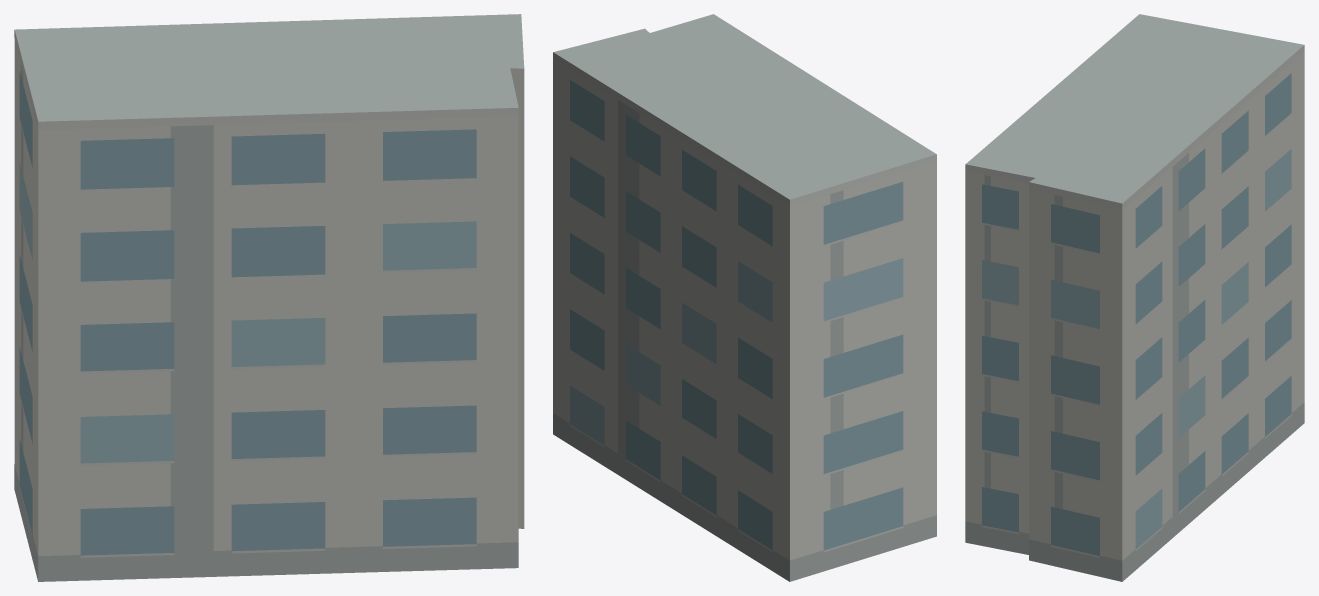
Rendered from survey-upis-32724575.glb.
3 views of the same model, side by side, from view 1: azimuth 30°, elevation 25°; view 2: azimuth 150°, elevation 25°; view 3: azimuth 270°, elevation 25° (orthographic). The views are drawn at different scales.
Parts seen in each view (by area): view 1: survey-upis-32724575.tmp; view 2: survey-upis-32724575.tmp; view 3: survey-upis-32724575.tmp.
Part boxes in pixels (x1,y1,x2,y2): survey-upis-32724575.tmp: (14,14,524,581); survey-upis-32724575.tmp: (553,14,936,581); survey-upis-32724575.tmp: (965,14,1304,581).
Bounding box in the file's own units: 14.19 × 13.2 × 10.73.
